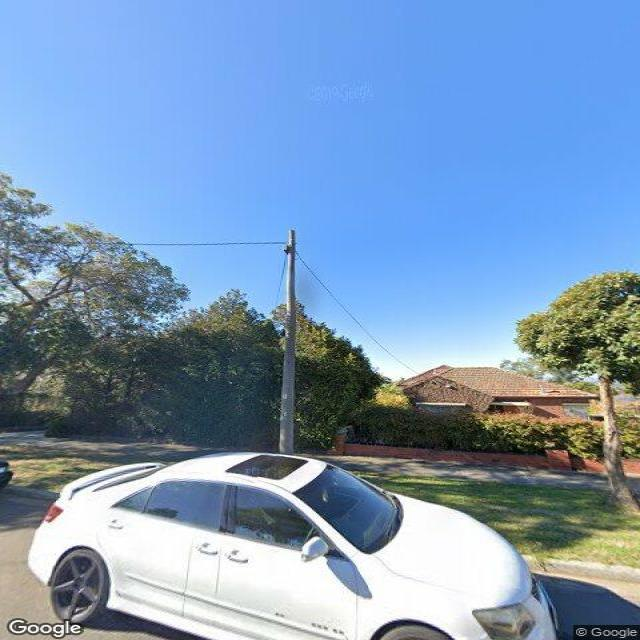timber-pole: (276, 228, 297, 456)
